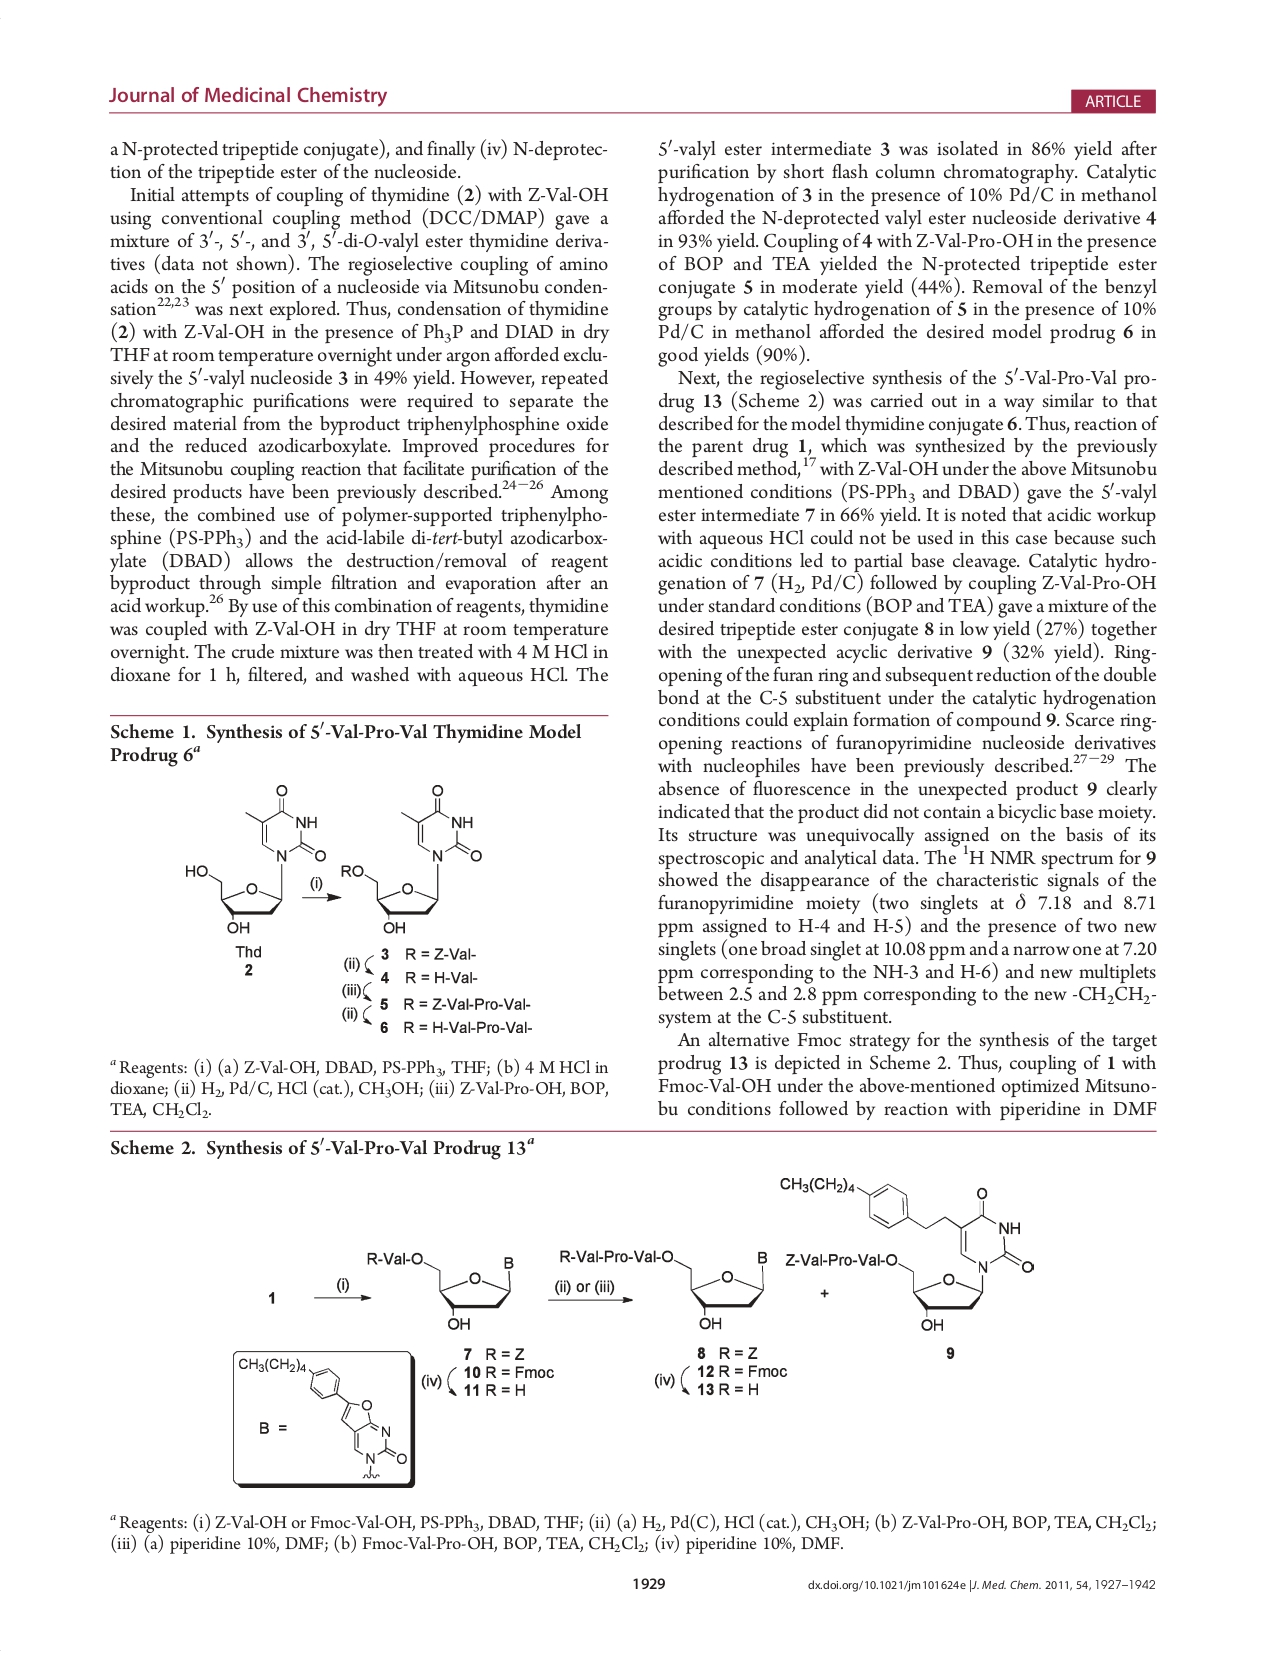exist_molecular: (184, 782, 485, 935), (777, 1173, 1039, 1334), (237, 1355, 408, 1480), (556, 1243, 771, 1330), (363, 1243, 515, 1333)
